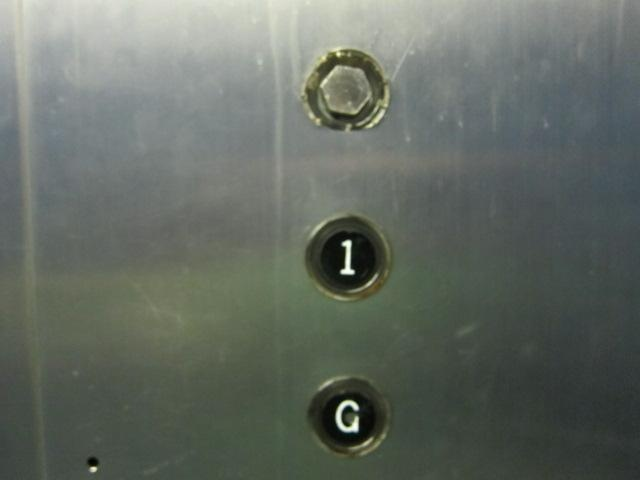1: (300, 209, 394, 306)
G: (305, 372, 392, 460)
unknown: (303, 46, 390, 134)
